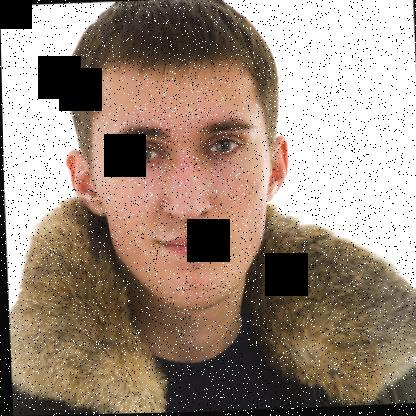Male: (60, 55, 291, 314)
